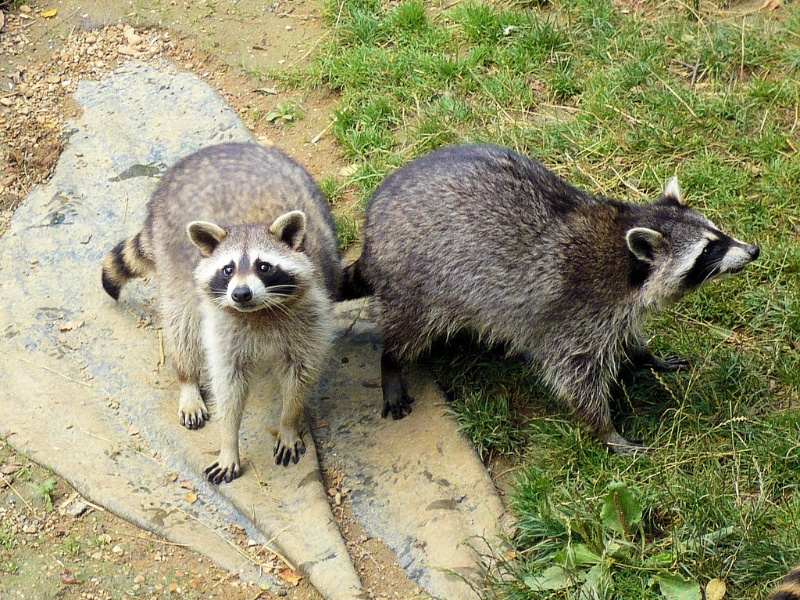raccoon: (350, 135, 762, 463), (83, 143, 351, 496)
